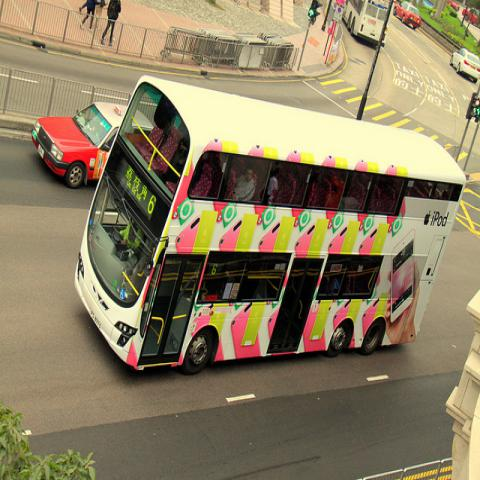bus: (73, 74, 467, 374), (325, 3, 396, 53)
car: (29, 101, 128, 188), (449, 48, 479, 81), (393, 0, 421, 31)
